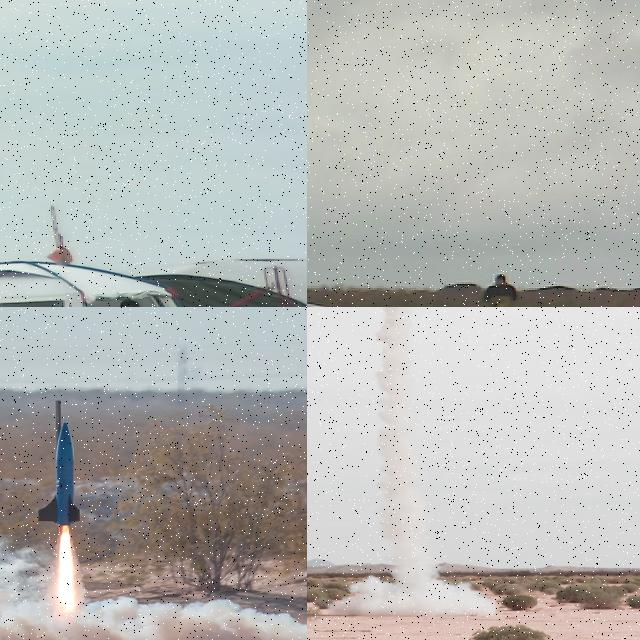Rocket: (37, 416, 82, 528), (43, 204, 75, 266)
